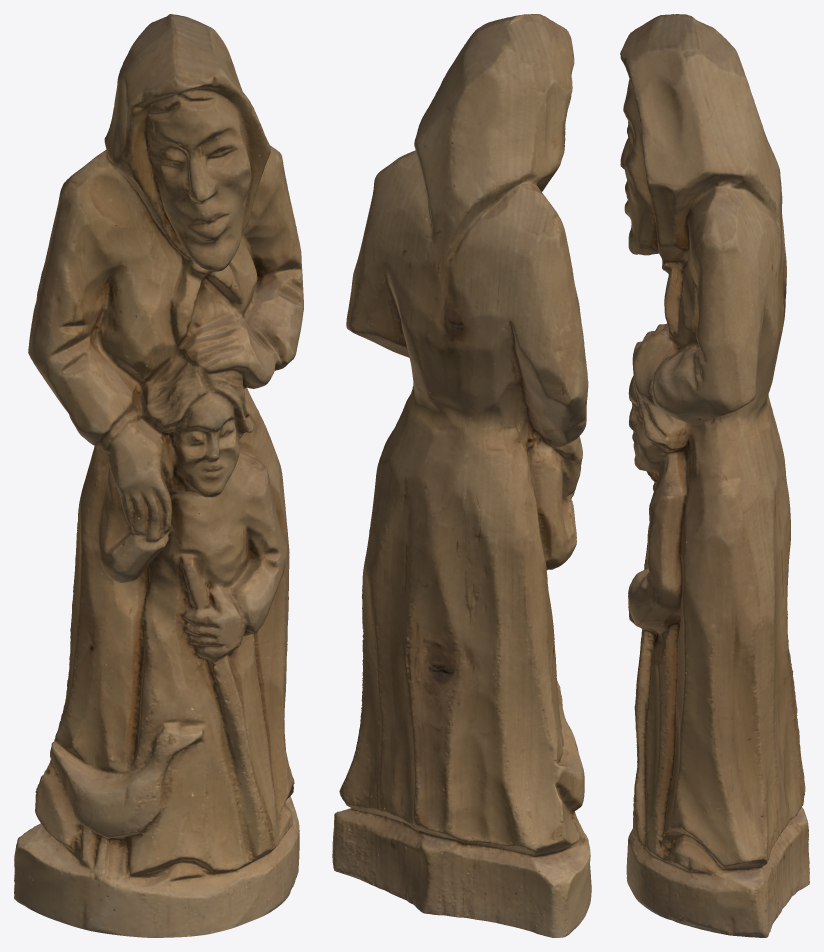
File: MPL_W_E_1484_lowpoly.glb
3 renders of one model, left to right at view 1: azimuth 30°, elevation 25°; view 2: azimuth 150°, elevation 25°; view 3: azimuth 270°, elevation 25°, orthographic. The views are drawn at different scales.
Visible parts, largest first — view 1: MPL_W_E_1484_lowpoly; view 2: MPL_W_E_1484_lowpoly; view 3: MPL_W_E_1484_lowpoly.
Boxes of the visible parts, x1,y1,x2,y2 form: MPL_W_E_1484_lowpoly: [14, 14, 303, 937]; MPL_W_E_1484_lowpoly: [332, 14, 591, 937]; MPL_W_E_1484_lowpoly: [620, 14, 809, 937].
Size of the model in its own units: 0.0924 by 0.3046 by 0.0614.
1 material, 1 textured.
